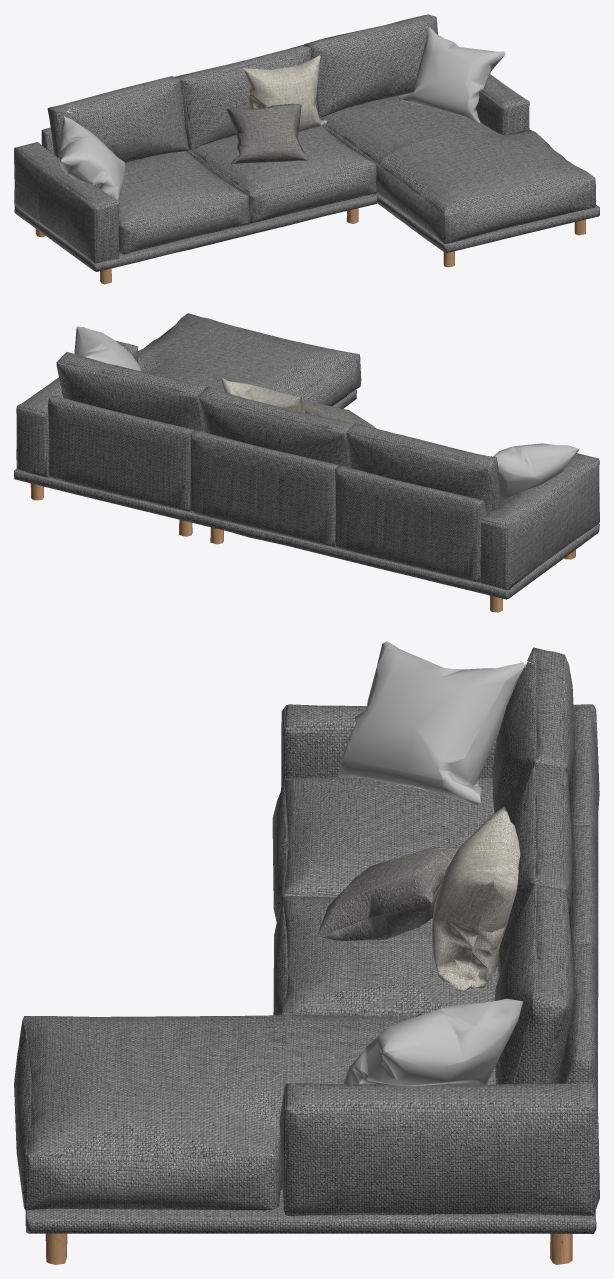
Rendered from SM_双人带贵妃榻_260cm.gltf.
3 renders of one model, top to bottom at view 1: azimuth 30°, elevation 25°; view 2: azimuth 150°, elevation 25°; view 3: azimuth 270°, elevation 25°, orthographic. The views are drawn at different scales.
Visible parts, largest first — view 1: SM_双人带贵妃榻_260cm_StaticMeshComponent0; view 2: SM_双人带贵妃榻_260cm_StaticMeshComponent0; view 3: SM_双人带贵妃榻_260cm_StaticMeshComponent0.
Part boxes in pixels (x1,y1,x2,y2): SM_双人带贵妃榻_260cm_StaticMeshComponent0: (14,14,599,284); SM_双人带贵妃榻_260cm_StaticMeshComponent0: (14,313,599,612); SM_双人带贵妃榻_260cm_StaticMeshComponent0: (14,641,599,1264).
Size of the model in its own units: 274 by 77.24 by 163.
Materials: 5 (5 with a texture image).
